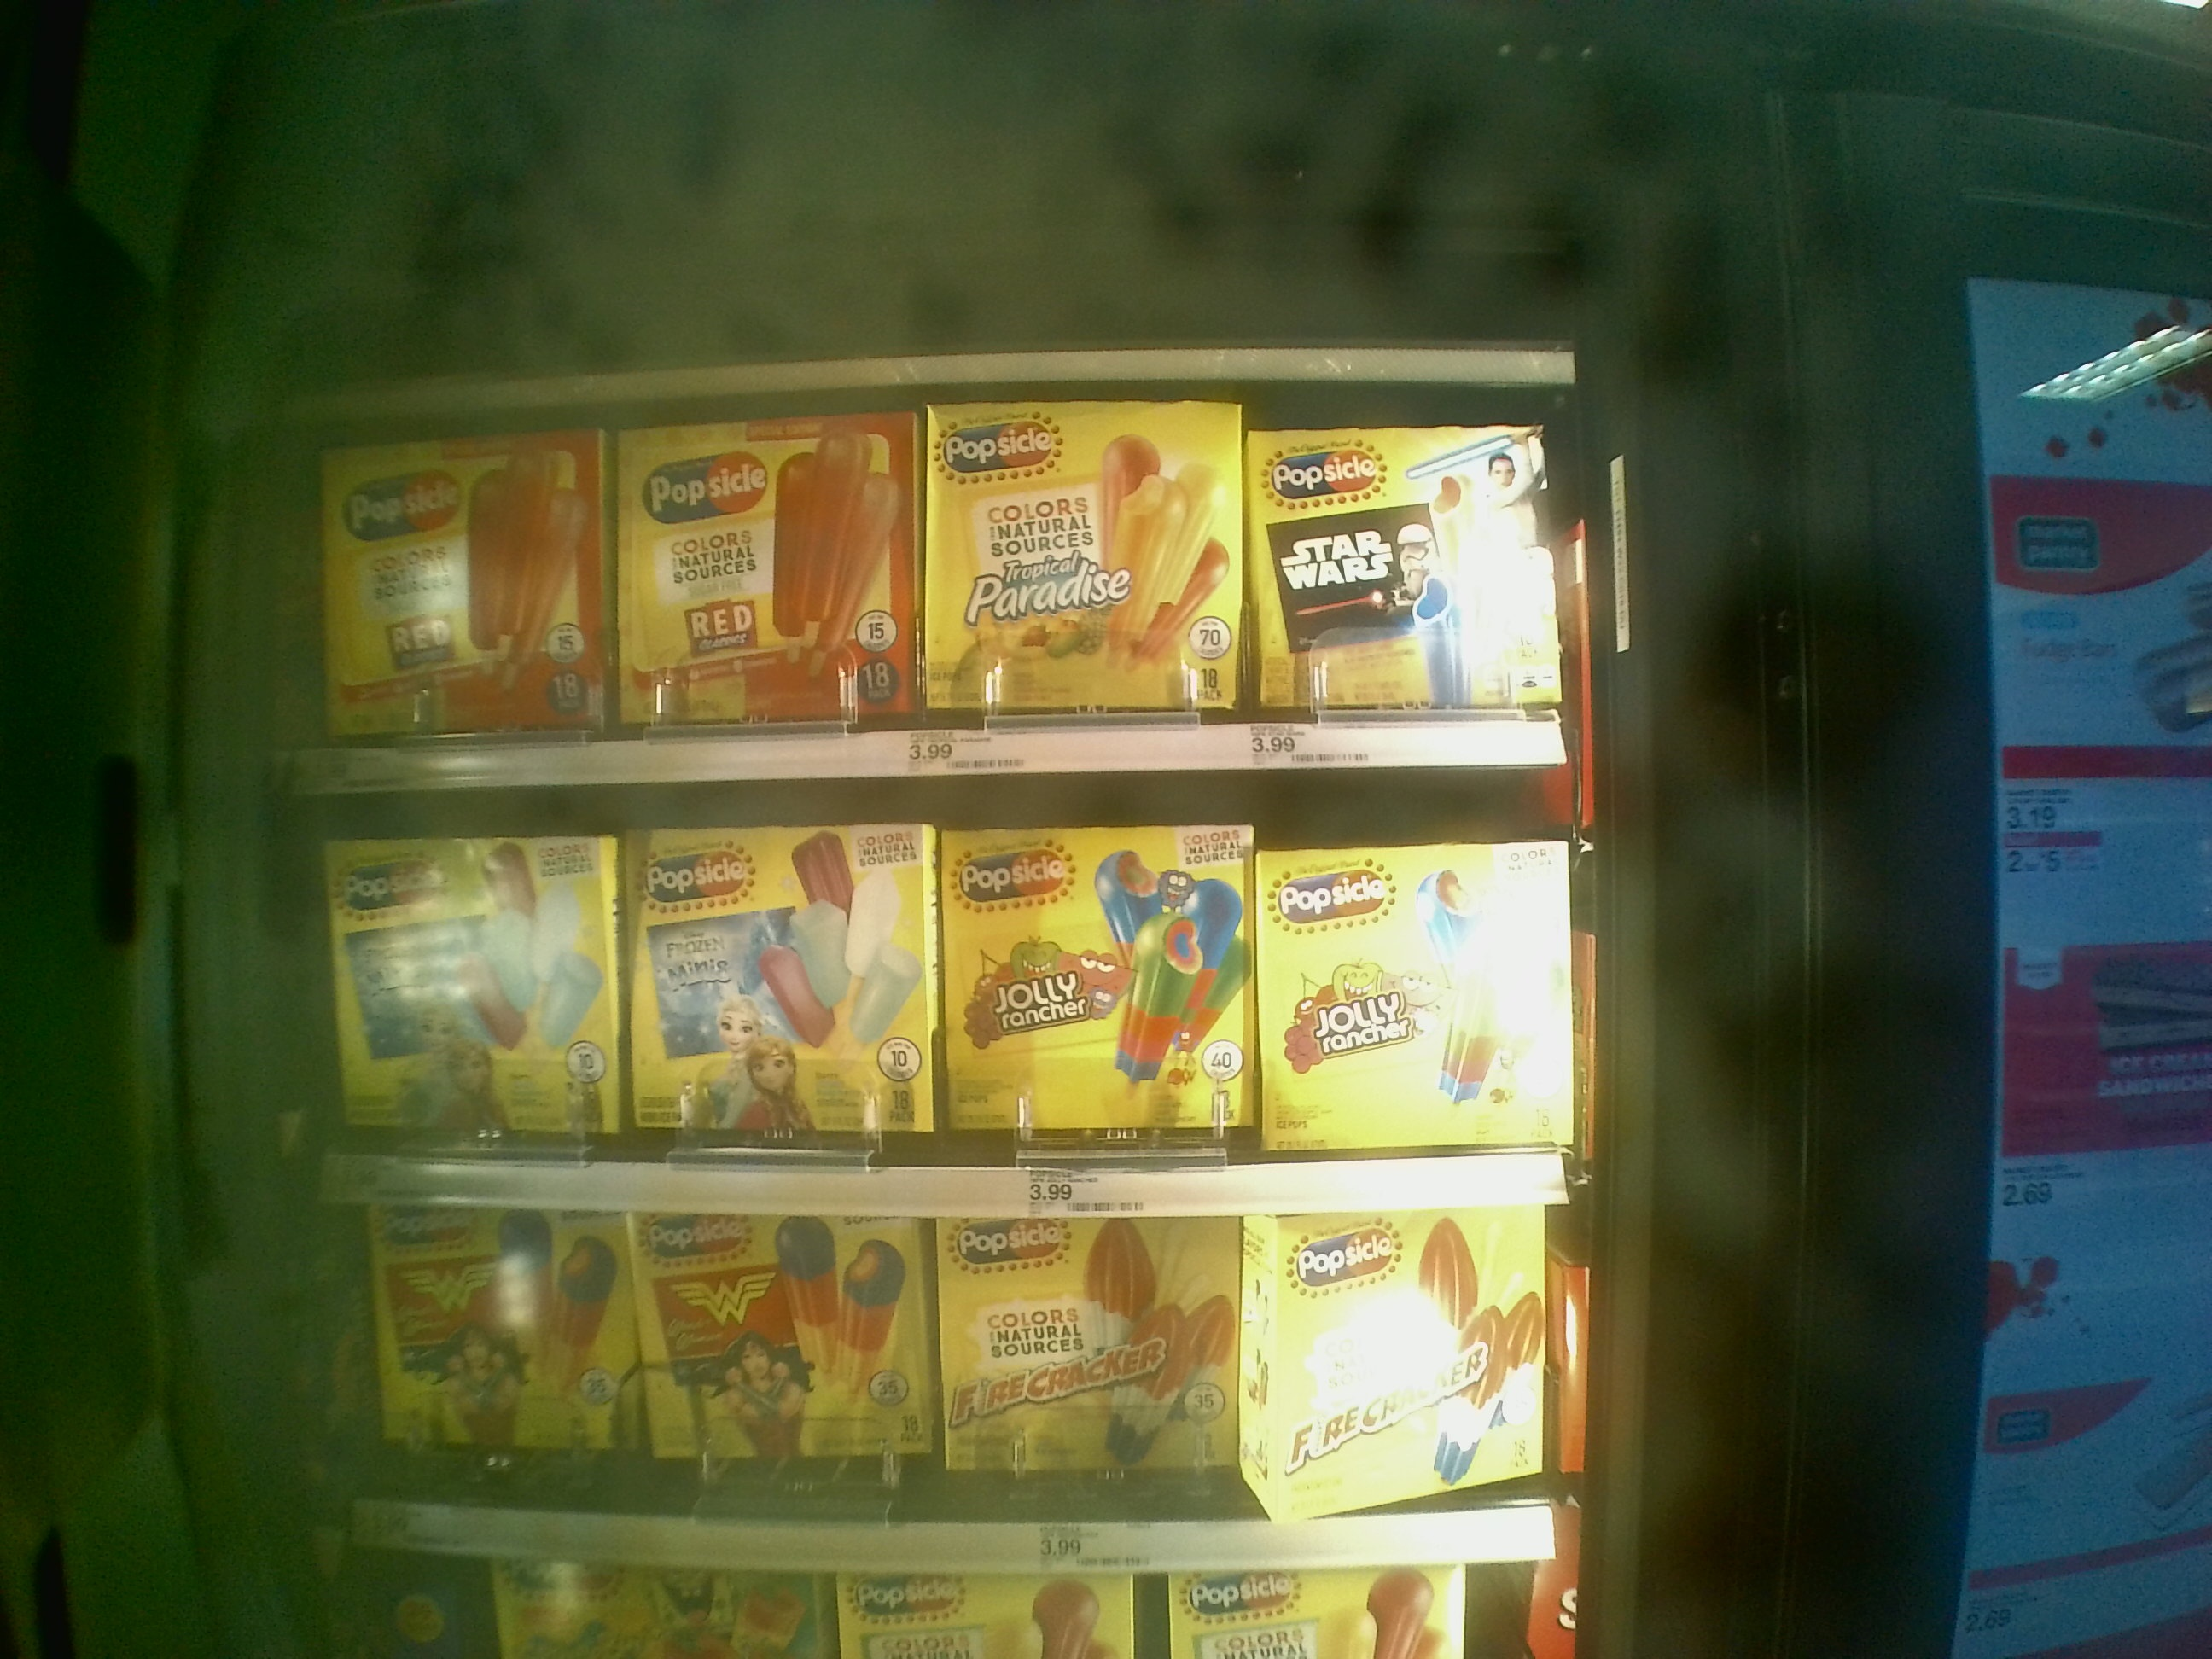shelf: (291, 767, 1578, 1188), (291, 1194, 1569, 1560), (286, 396, 1554, 763)
